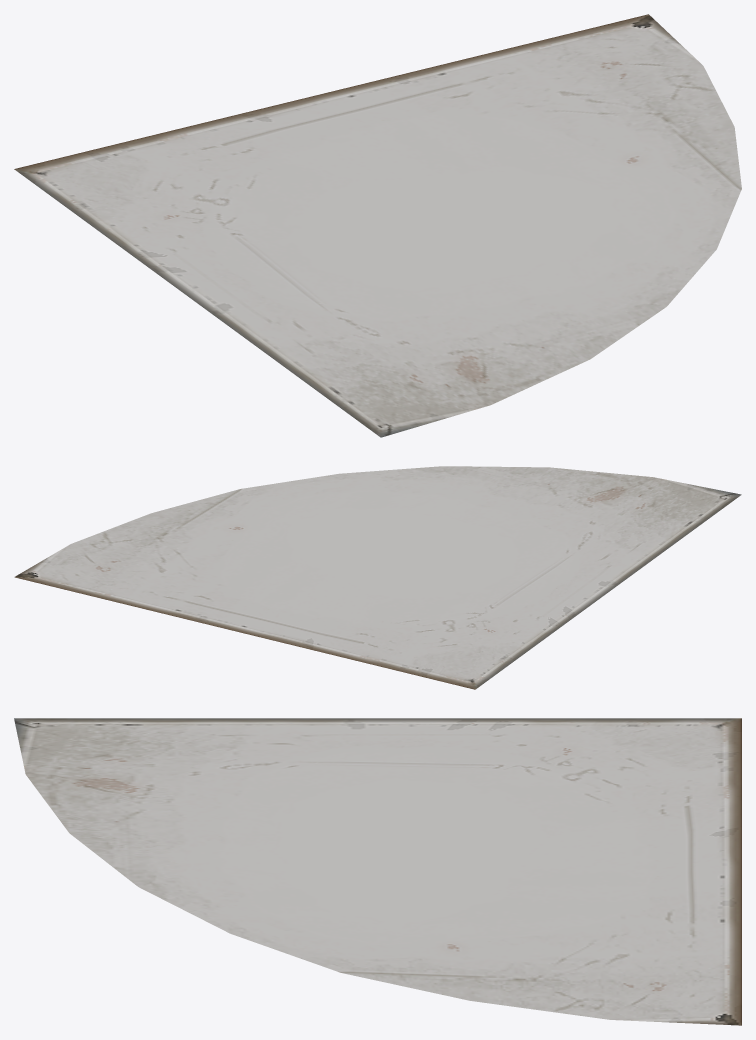
Rendered from scifi_wall_curve1_top.FBX.
3 views of the same model, one above another, from view 1: azimuth 30°, elevation 25°; view 2: azimuth 150°, elevation 25°; view 3: azimuth 270°, elevation 25° (orthographic). The views are drawn at different scales.
Visible parts, largest first — view 1: Plane115; view 2: Plane115; view 3: Plane115.
Boxes of the visible parts, <box> form: Plane115: <box>14,14,741,437</box>; Plane115: <box>14,466,741,689</box>; Plane115: <box>14,718,741,1025</box>.
Bounding box in the file's own units: 246 × 6.99e-14 × 247.
